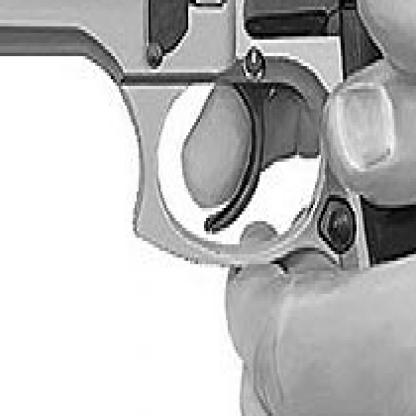gun: (0, 0, 414, 291)
